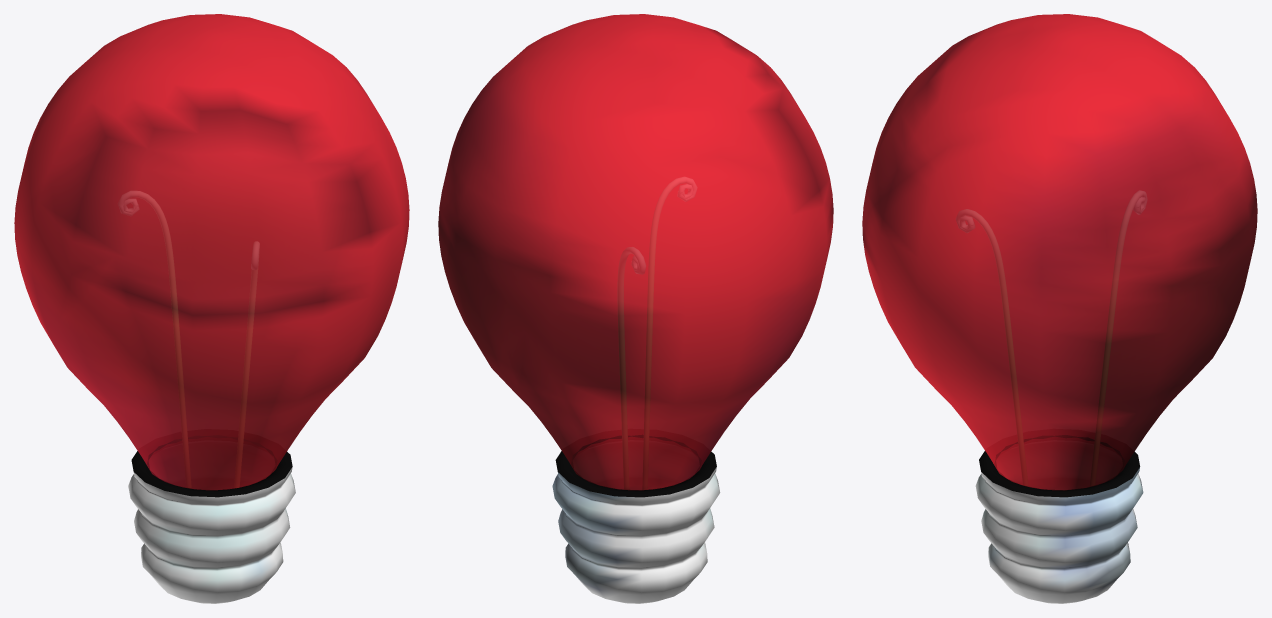
Rendered from red bulb.fbx.
3 views of the same model, side by side, from view 1: azimuth 30°, elevation 25°; view 2: azimuth 150°, elevation 25°; view 3: azimuth 270°, elevation 25° (orthographic).
Visible parts, largest first — view 1: bulb:bulb, bulb:flower, bulb:leaf; view 2: bulb:bulb, bulb:flower, bulb:leaf; view 3: bulb:bulb, bulb:flower, bulb:leaf.
Boxes of the visible parts, <box> form: bulb:bulb: <box>14,14,409,490</box>; bulb:flower: <box>128,435,295,603</box>; bulb:leaf: <box>118,191,259,487</box>; bulb:bulb: <box>438,14,833,490</box>; bulb:flower: <box>552,435,720,603</box>; bulb:leaf: <box>618,177,696,489</box>; bulb:bulb: <box>862,14,1257,490</box>; bulb:flower: <box>975,435,1143,603</box>; bulb:leaf: <box>956,191,1146,485</box>.
Size of the model in its own units: 4.58 by 7.13 by 4.59.
